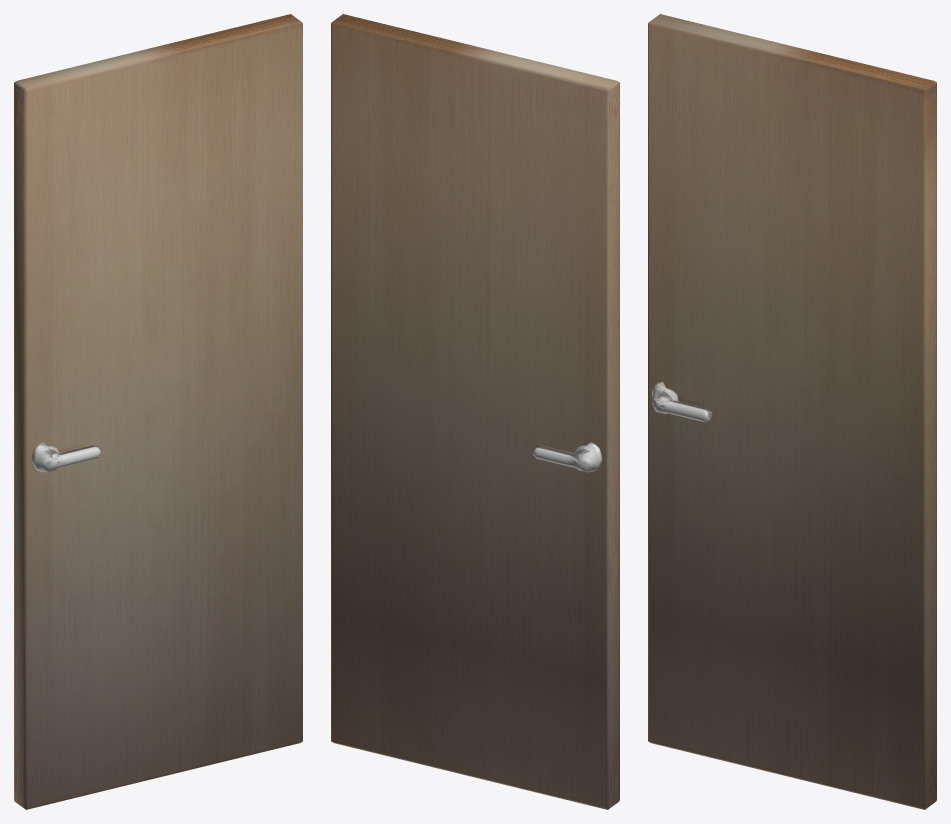
Rendered from Meshy_AI_Closed_Wooden_Door_0518133724_texture.fbx.
3 views of the same model, side by side, from view 1: azimuth 30°, elevation 25°; view 2: azimuth 150°, elevation 25°; view 3: azimuth 330°, elevation 25° (orthographic).
Parts seen in each view (by area): view 1: Mesh_0; view 2: Mesh_0; view 3: Mesh_0.
Part boxes in pixels (x1=…): Mesh_0: x1=14, y1=14, x2=302, y2=809; Mesh_0: x1=331, y1=14, x2=619, y2=809; Mesh_0: x1=648, y1=14, x2=936, y2=809.
Bounding box in the file's own units: 77.1 × 191 × 14.48.
1 material, 1 textured.
